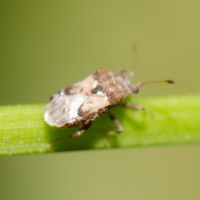insect: (44, 69, 174, 135)
